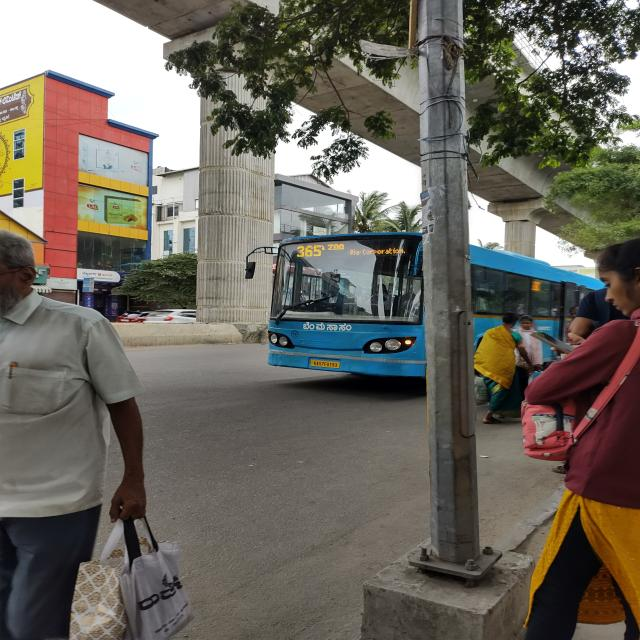bus: (249, 227, 438, 390)
display: (289, 239, 407, 260)
dnumber: (293, 243, 325, 258)
